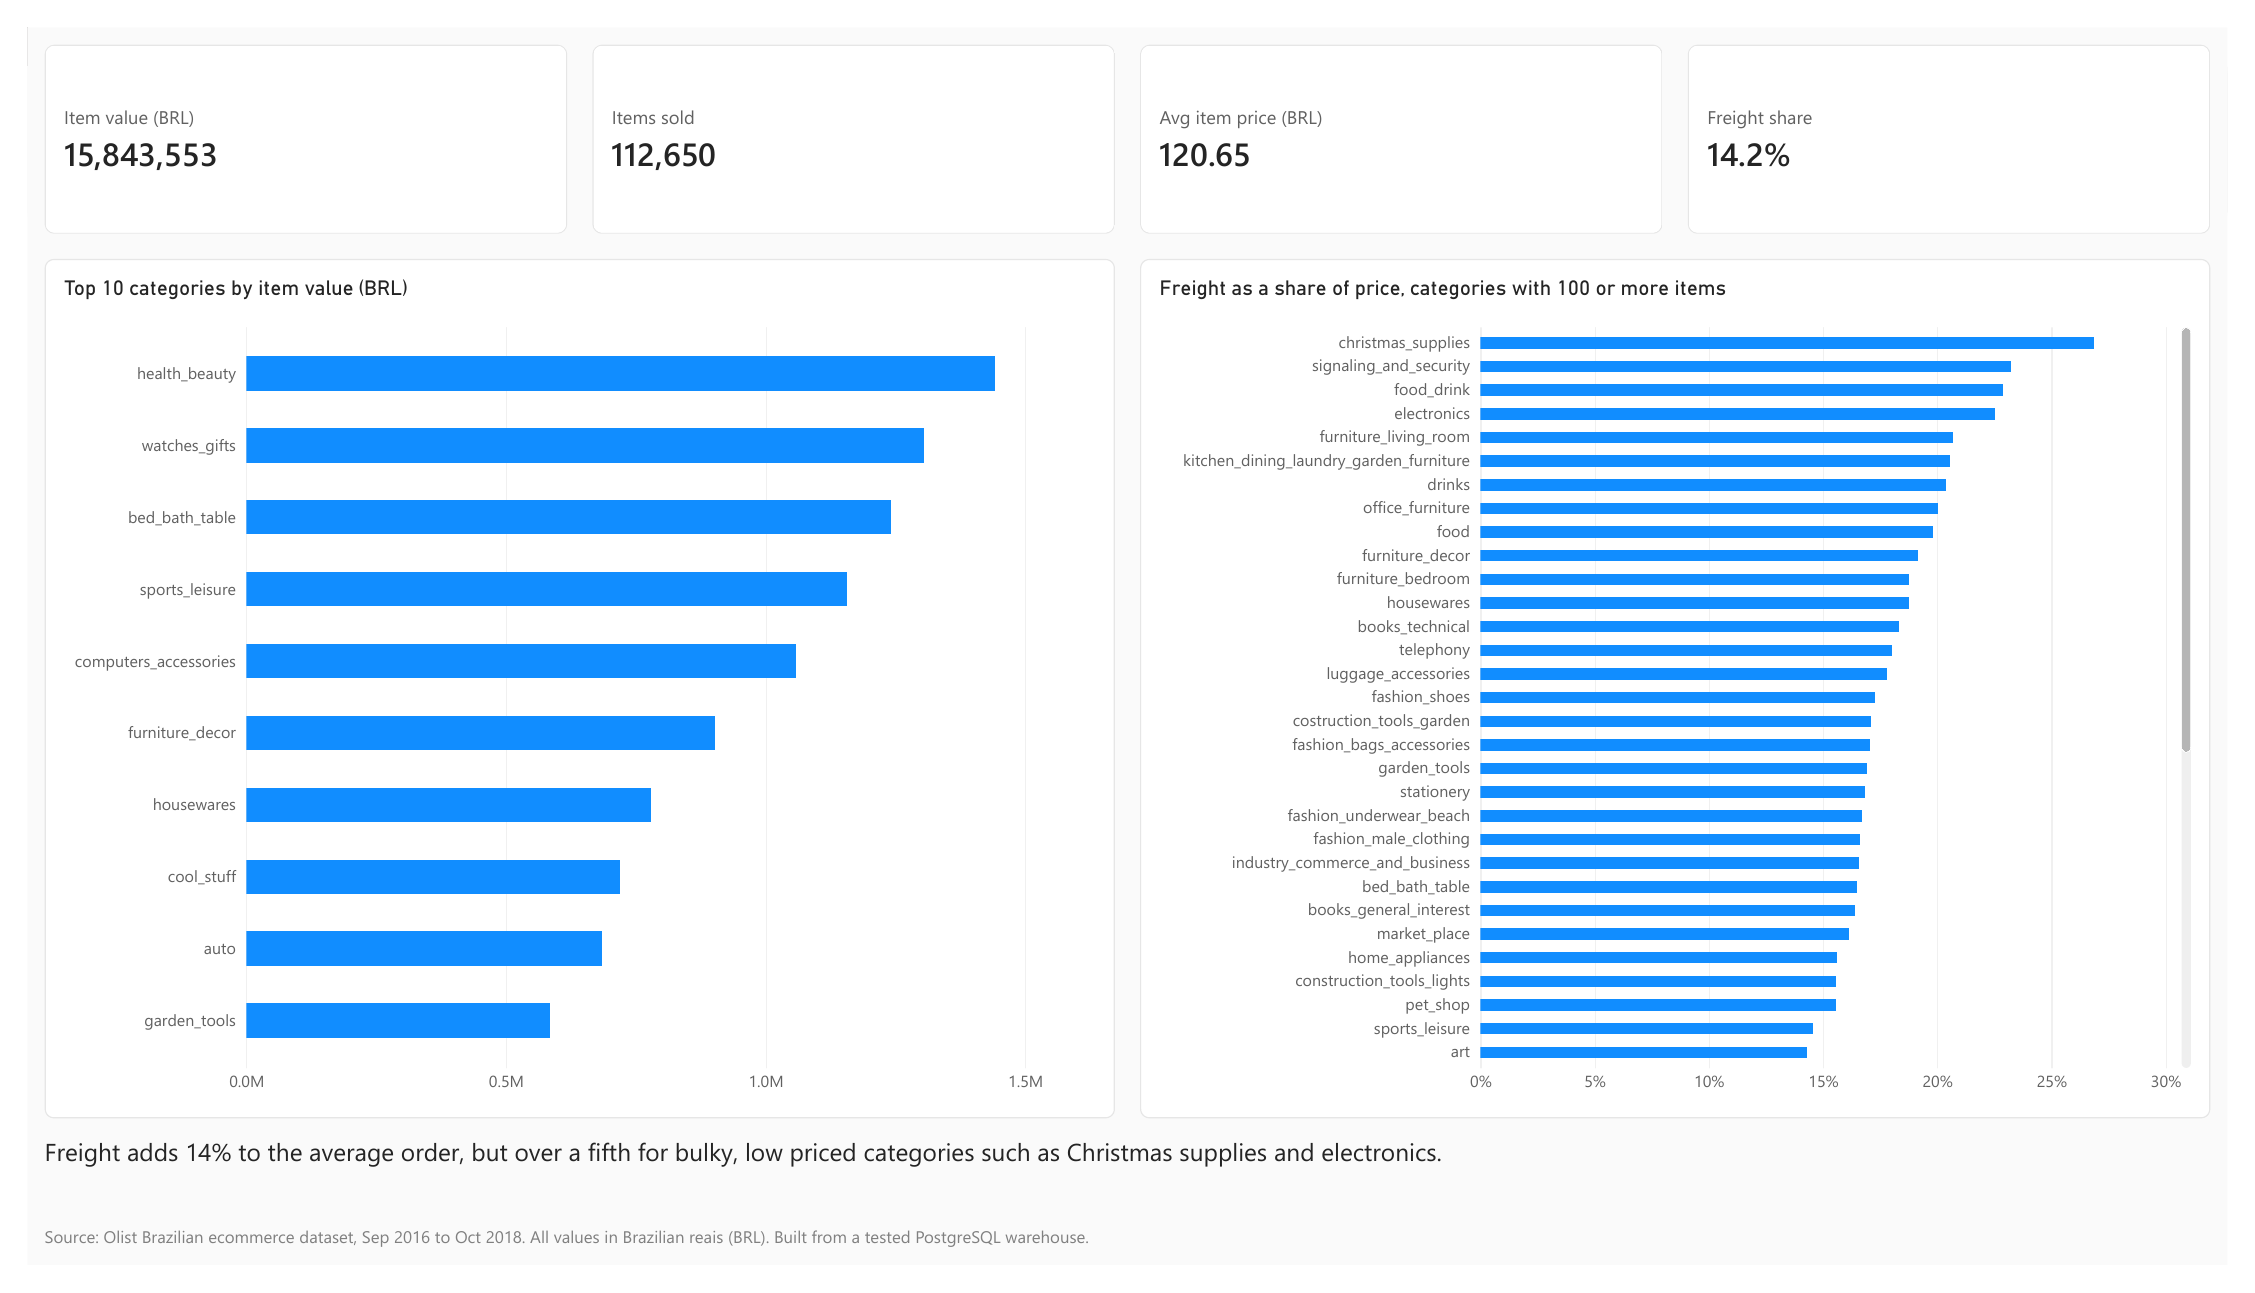

The dashboard page shown, as its layout file describes it:
{"tool":"powerbi","page":{"name":"Sales","canvas":[1920,1080],"ordinal":1},"visuals":[{"type":"clusteredBarChart","title":"Top 10 categories by item value (BRL)","fields":{"Category":["category_performance.category"],"Y":["category_performance.Item Value"]},"box":[15,202,934,750],"z":0},{"type":"cardVisual","fields":{"Data":["category_performance.Avg Item Price"]},"box":[971,15,456,165],"z":1000},{"type":"cardVisual","fields":{"Data":["category_performance.Freight Share"]},"box":[1449,15,456,165],"z":2000},{"type":"clusteredBarChart","title":"Freight as a share of price, categories with 100 or more items","fields":{"Category":["category_performance.category"],"Y":["category_performance.Freight Share"]},"box":[971,202,934,750],"z":3000},{"type":"textbox","box":[15,967,1890,60],"z":4000},{"type":"cardVisual","fields":{"Data":["category_performance.Item Value Label"]},"box":[15,15,456,165],"z":5000},{"type":"cardVisual","fields":{"Data":["category_performance.Items Sold Label"]},"box":[493,15,456,165],"z":6000},{"type":"textbox","box":[15,1045,1890,30],"z":7000}]}

Visuals, with their boxes in screenshot pixels (x1, y1, x2, y2), scaled from the page's 1920x1080 canvas onto the 2255x1293 screenshot:
"Top 10 categories by item value (BRL)" clusteredBarChart: (left=18, top=242, right=1115, bottom=1140)
cardVisual - category_performance.Avg Item Price: (left=1140, top=18, right=1676, bottom=216)
cardVisual - category_performance.Freight Share: (left=1702, top=18, right=2237, bottom=216)
"Freight as a share of price, categories with 100 or more items" clusteredBarChart: (left=1140, top=242, right=2237, bottom=1140)
textbox: (left=18, top=1158, right=2237, bottom=1230)
cardVisual - category_performance.Item Value Label: (left=18, top=18, right=553, bottom=216)
cardVisual - category_performance.Items Sold Label: (left=579, top=18, right=1115, bottom=216)
textbox: (left=18, top=1251, right=2237, bottom=1287)
